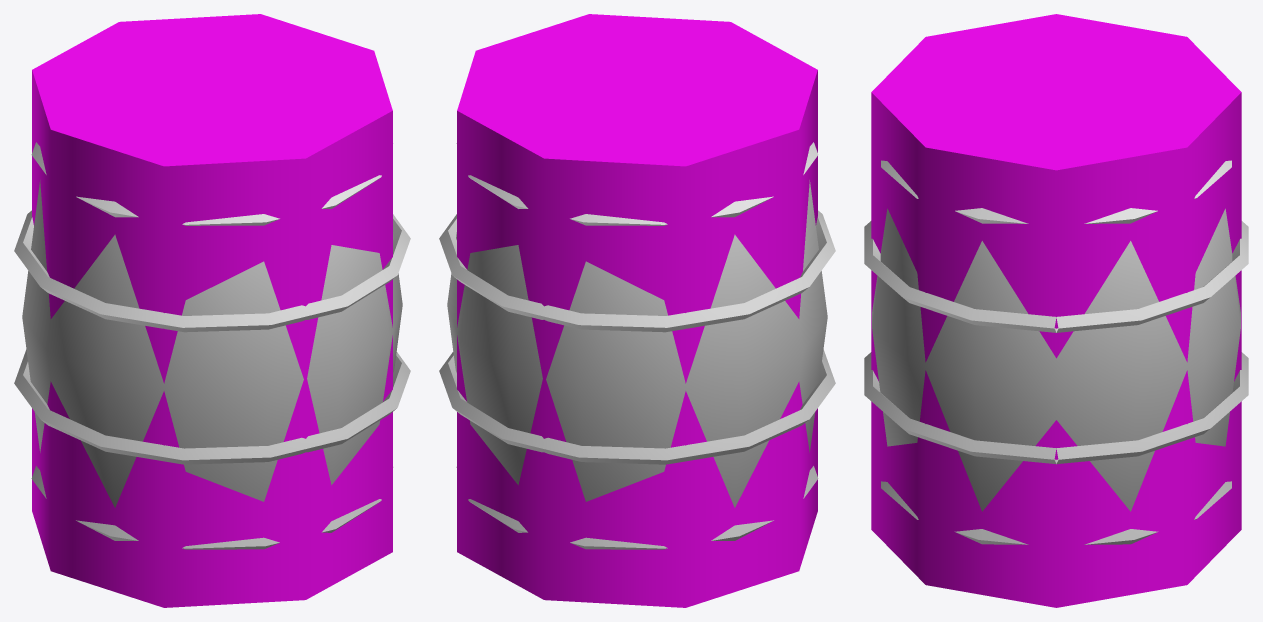
The model's file is barrel.glb.
3 views of the same model, side by side, from view 1: azimuth 30°, elevation 25°; view 2: azimuth 150°, elevation 25°; view 3: azimuth 270°, elevation 25° (orthographic).
Parts seen in each view (by area): view 1: barrel_hull, barrel; view 2: barrel_hull, barrel; view 3: barrel_hull, barrel.
Boxes of the visible parts, x1,y1,x2,y2 form: barrel_hull: (32,14,392,607); barrel: (14,142,410,549); barrel_hull: (457,14,817,607); barrel: (439,142,835,549); barrel_hull: (871,14,1241,607); barrel: (864,160,1248,544).
Size of the model in its own units: 0.9794 by 1.2 by 0.9554.
